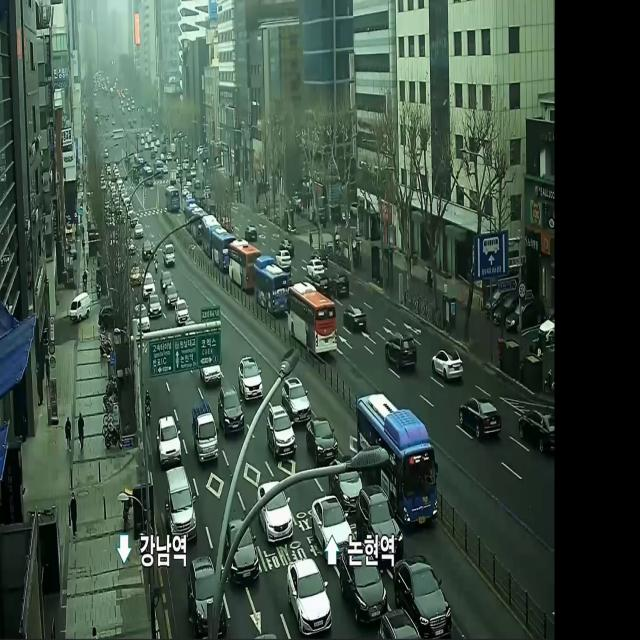bus: (154, 252, 160, 276)
car: (354, 384, 442, 532), (280, 282, 341, 358), (252, 245, 290, 315), (226, 238, 258, 286), (200, 212, 224, 259), (212, 226, 235, 271), (165, 185, 188, 220), (191, 202, 205, 240), (245, 221, 261, 247)
motorcycle: (287, 549, 340, 640), (334, 536, 388, 625), (407, 549, 458, 640), (188, 549, 226, 640), (308, 497, 359, 560), (256, 483, 304, 544), (164, 464, 196, 550), (360, 485, 395, 558), (225, 523, 264, 586), (280, 358, 315, 428), (460, 393, 508, 443), (516, 412, 558, 466), (304, 415, 339, 470), (264, 402, 298, 458), (213, 385, 249, 437), (235, 345, 265, 405), (383, 328, 419, 374), (156, 418, 184, 473), (428, 340, 464, 382), (375, 604, 416, 637), (132, 300, 152, 343), (343, 302, 368, 335), (69, 295, 96, 323), (305, 250, 326, 285), (333, 268, 354, 301), (194, 362, 227, 382), (272, 244, 290, 273), (140, 269, 155, 299), (147, 295, 163, 322), (142, 237, 157, 264), (175, 302, 194, 322), (164, 283, 178, 307), (129, 260, 140, 290), (281, 238, 297, 256), (161, 270, 173, 292), (136, 220, 148, 241)
truck: (192, 402, 220, 470), (158, 242, 178, 273)
